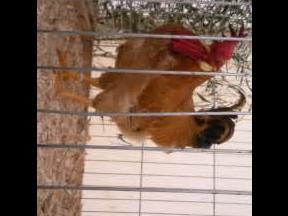hen: (53, 20, 249, 153)
